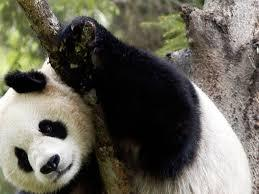bear: (1, 16, 253, 194)
